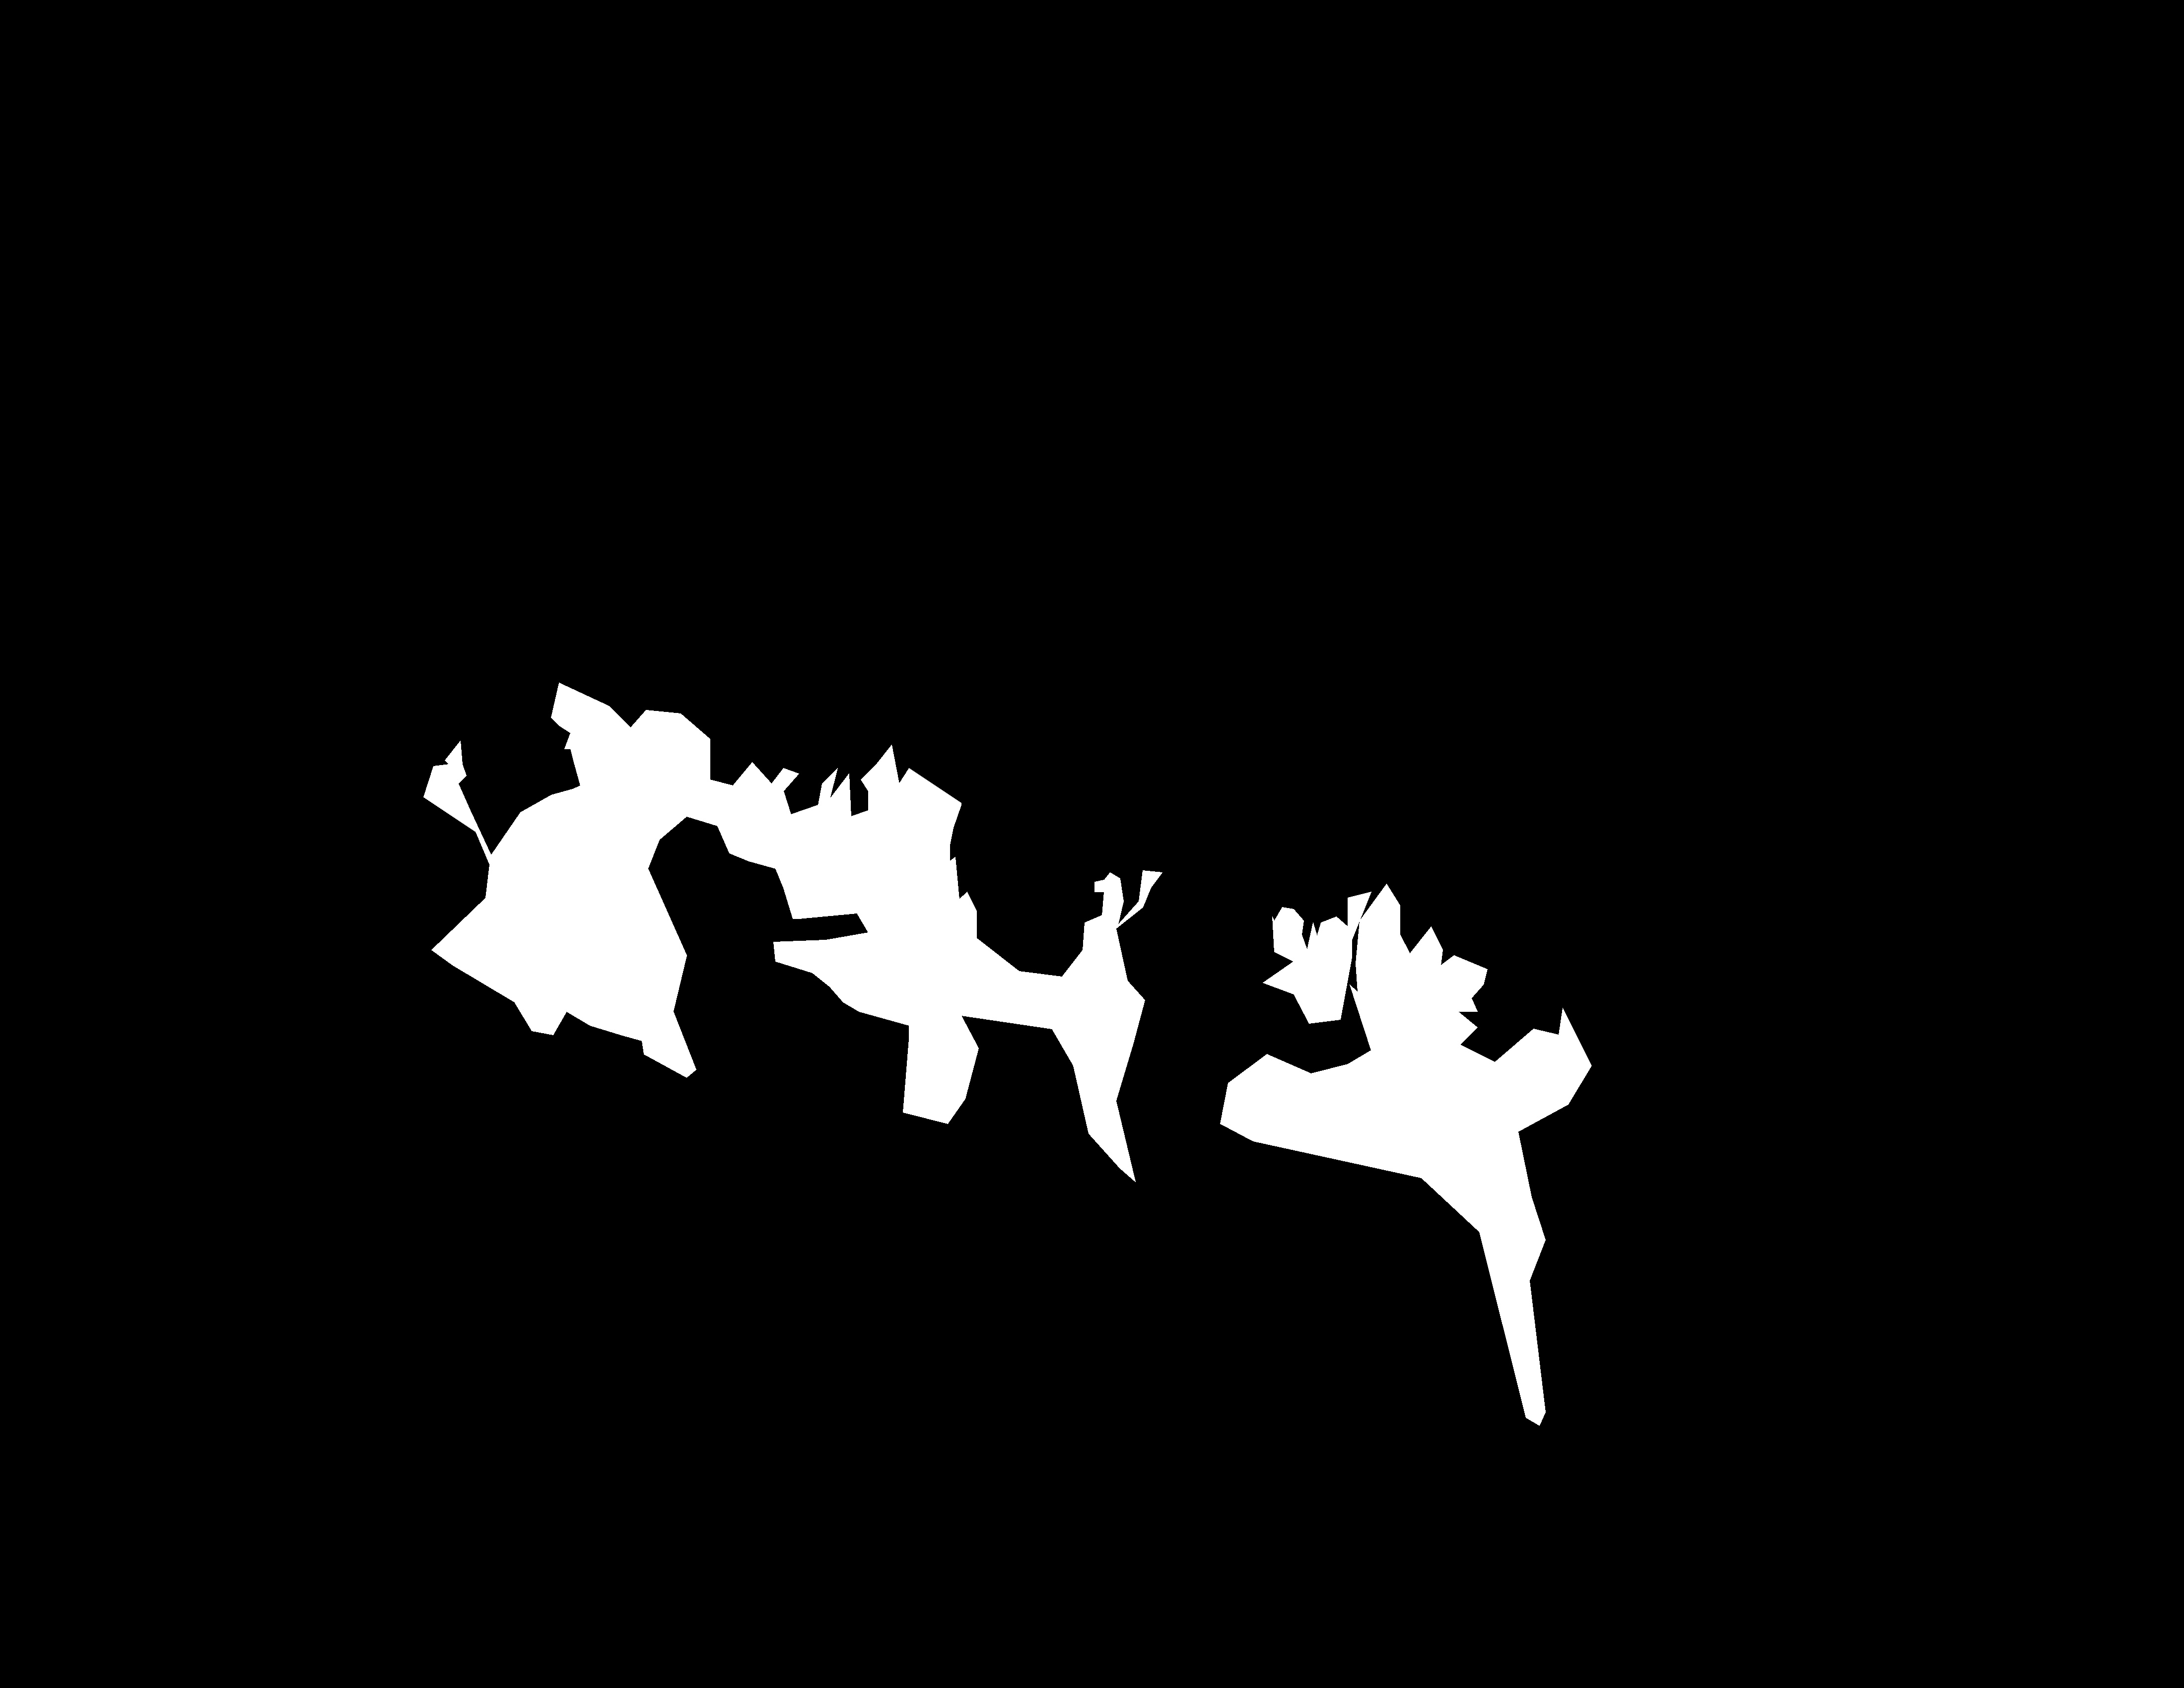Fire: (548, 699, 677, 996), (1330, 890, 1466, 1163), (835, 762, 977, 961)
